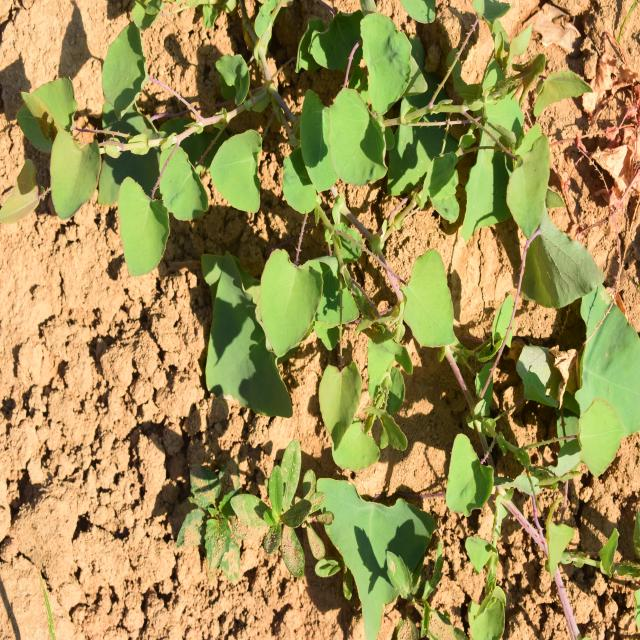Asiatic_Smartweed: (269, 184, 470, 462), (40, 27, 270, 248), (447, 40, 602, 323), (563, 274, 640, 492)
